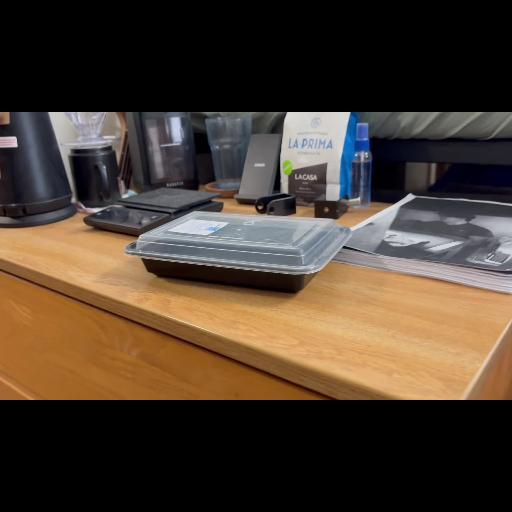rigid_plastic_container: (119, 203, 367, 295)
